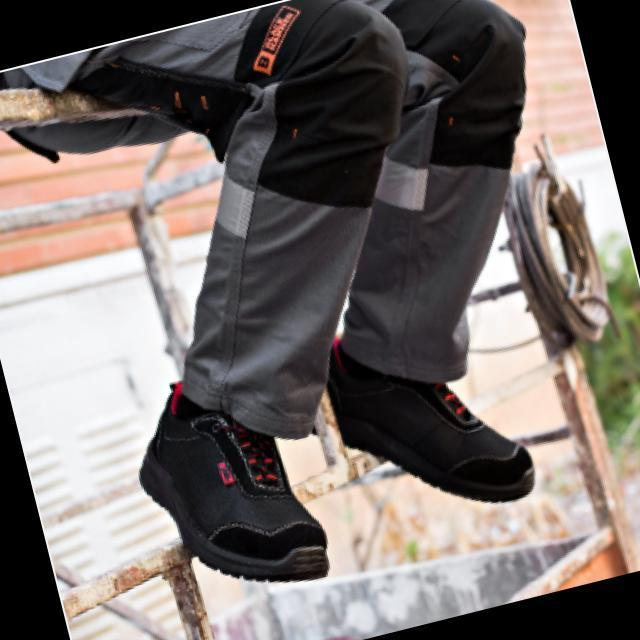boots: (109, 288, 552, 619)
